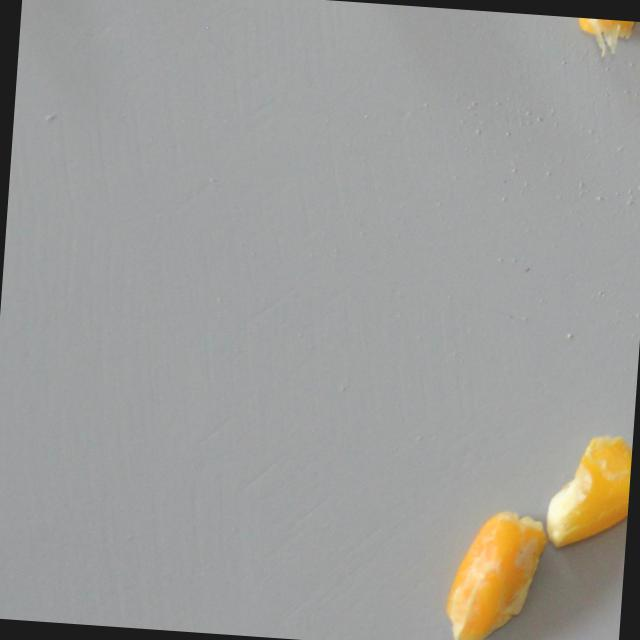dañado: (571, 17, 640, 62)
pelicula: (541, 427, 633, 554)
punto_negro: (440, 502, 551, 640)
